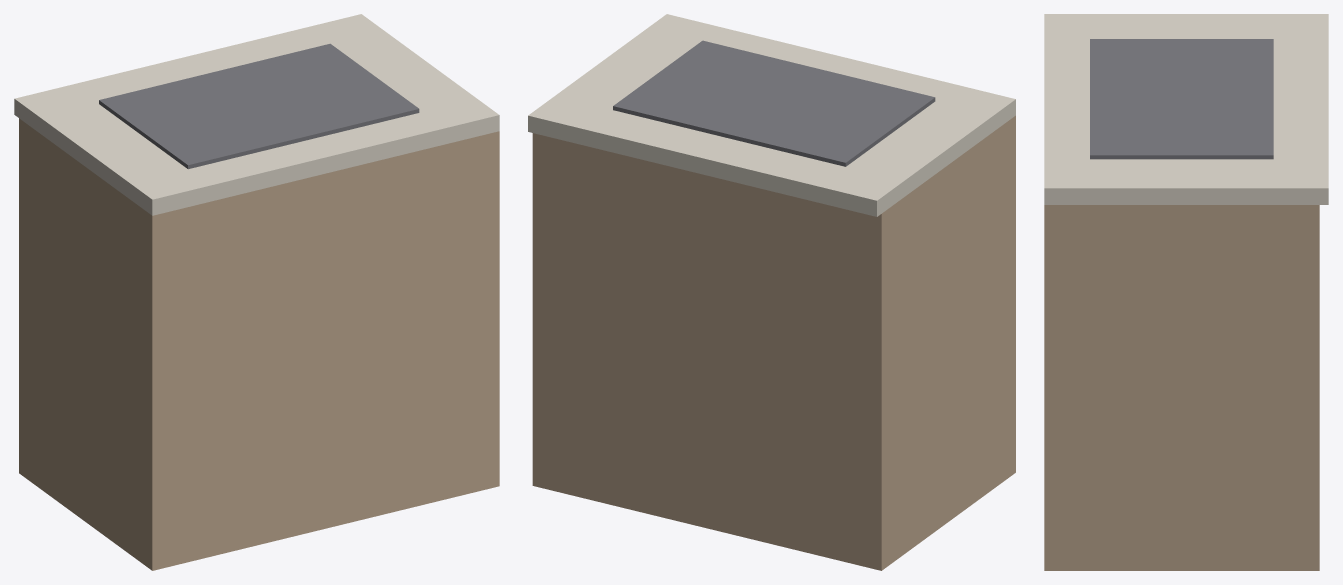
Rendered from kit_sink_090.glb.
3 views of the same model, side by side, from view 1: azimuth 30°, elevation 25°; view 2: azimuth 150°, elevation 25°; view 3: azimuth 270°, elevation 25° (orthographic). The views are drawn at different scales.
Parts seen in each view (by area): view 1: kit_sink_090; view 2: kit_sink_090; view 3: kit_sink_090.
Boxes of the visible parts, left/top/right/bottom form: kit_sink_090: left=14, top=14, right=499, bottom=570; kit_sink_090: left=528, top=14, right=1015, bottom=570; kit_sink_090: left=1044, top=14, right=1328, bottom=570.
Size of what is drawn, in the model's own units: 0.9 by 0.93 by 0.62.
